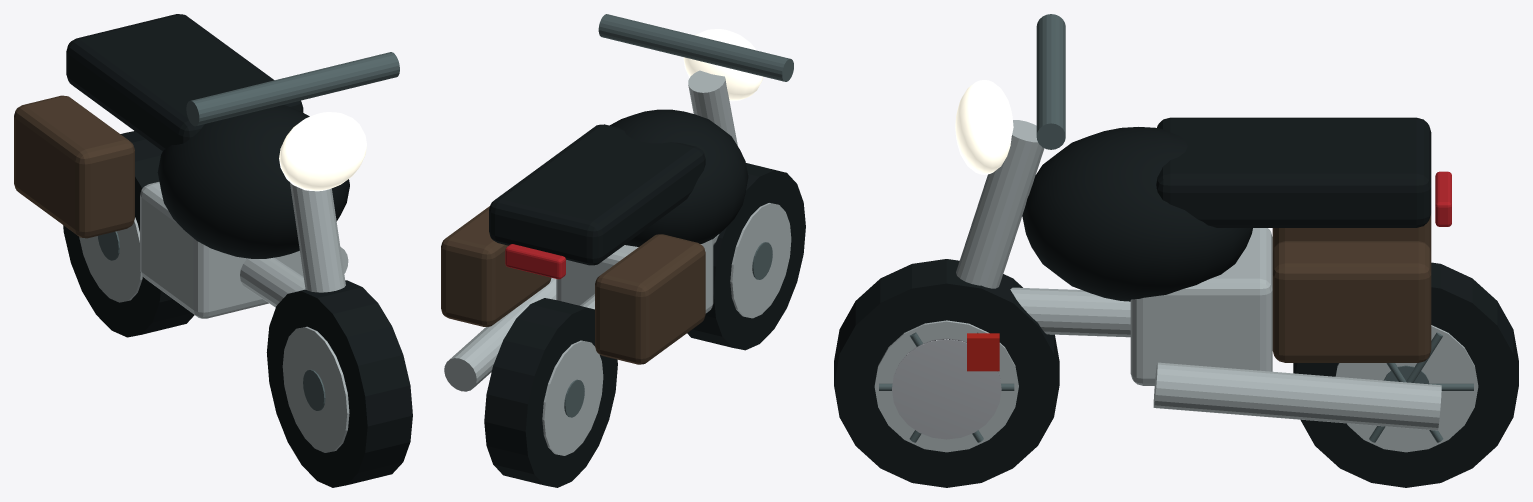
File: hiperreal.glb
The picture shows the model from 3 angles, left to right: view 1: azimuth 30°, elevation 25°; view 2: azimuth 150°, elevation 25°; view 3: azimuth 270°, elevation 25°; orthographic projection. The views are drawn at different scales.
Visible parts, largest first — view 1: Tyre.001, Fuel tank, Saddle, Saddle bag, Engine, Tyre, Handlebar, Rim.001, Headlight, Fork, Rim, Frame (+2 smaller); view 2: Saddle, Tyre, Saddle bag, Fuel tank, Tyre.001, Saddle bag.001, Handlebar, Rim.001, Rim, Exhaust, Engine, Headlight (+4 smaller); view 3: Saddle, Fuel tank, Tyre.001, Saddle bag.001, Tyre, Engine, Exhaust, Hiperreal disco de freno, Fork, Rim, Rim.001, Frame (+5 smaller).
Part boxes in pixels (x1,y1,x2,y2): Tyre.001: [266, 280, 412, 487]; Fuel tank: [157, 105, 349, 258]; Saddle: [66, 14, 303, 151]; Saddle bag: [14, 95, 134, 238]; Engine: [140, 182, 303, 318]; Tyre: [63, 131, 194, 337]; Handlebar: [186, 52, 399, 126]; Rim.001: [282, 326, 349, 452]; Headlight: [279, 112, 366, 191]; Fork: [290, 182, 345, 292]; Rim: [79, 217, 142, 302]; Frame: [240, 257, 305, 307]; Saddle: [489, 124, 705, 265]; Tyre: [484, 298, 617, 487]; Saddle bag: [595, 234, 705, 364]; Fuel tank: [609, 109, 748, 246]; Tyre.001: [687, 163, 805, 350]; Saddle bag.001: [441, 206, 551, 326]; Handlebar: [598, 14, 793, 81]; Rim.001: [730, 203, 791, 318]; Rim: [542, 340, 603, 455]; Exhaust: [444, 278, 556, 391]; Engine: [556, 239, 713, 313]; Headlight: [683, 29, 762, 101]; Saddle: [1156, 117, 1431, 227]; Fuel tank: [1022, 127, 1252, 301]; Tyre.001: [834, 259, 1059, 487]; Saddle bag.001: [1272, 241, 1431, 362]; Tyre: [1293, 262, 1518, 487]; Engine: [1130, 228, 1272, 385]; Exhaust: [1153, 362, 1441, 430]; Hiperreal disco de freno: [892, 338, 1001, 439]; Fork: [956, 120, 1044, 288]; Rim: [1335, 325, 1478, 452]; Rim.001: [874, 320, 1018, 452]; Frame: [1010, 287, 1130, 337].
Size of the model in its own units: 0.4 by 0.6143 by 0.9371.
